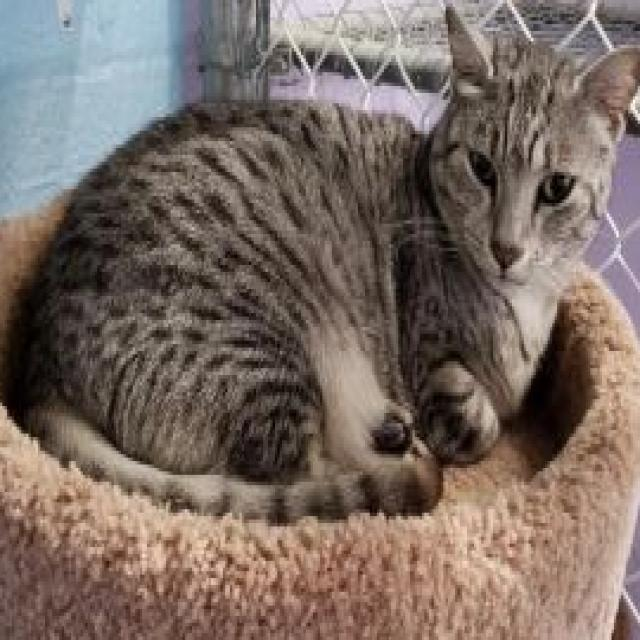Egyptian Mau: (7, 0, 640, 526)
